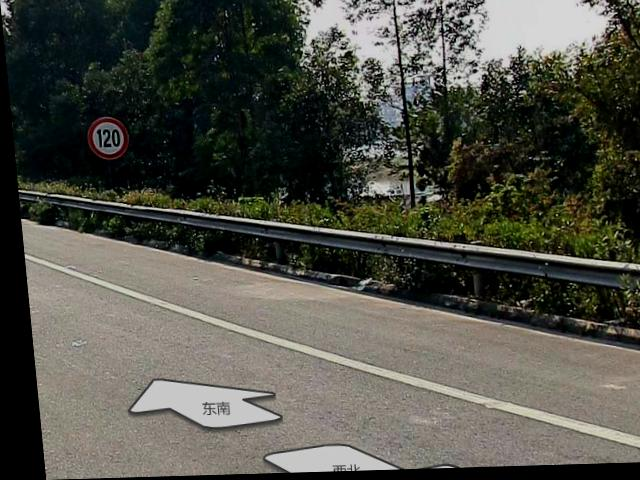limit120: (82, 116, 130, 161)
